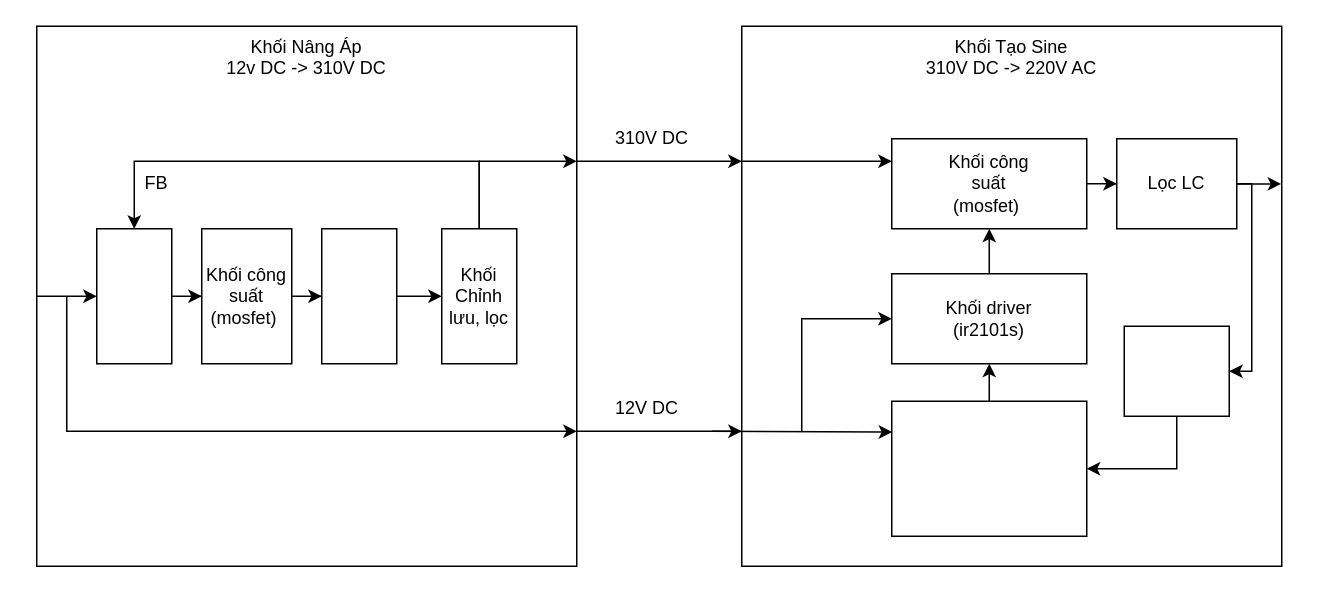
The diagram is 1320 pixels wide and 593 high, and some of its shapes have lost their labels. Here are the shapes that lost their labels. From the top down, the centre of each, then its label:
point 133,295: SG3525
point 358,295: Biến Áp Xung
point 1176,370: Chỉnh Lưu FB
point 988,468: Arduino
